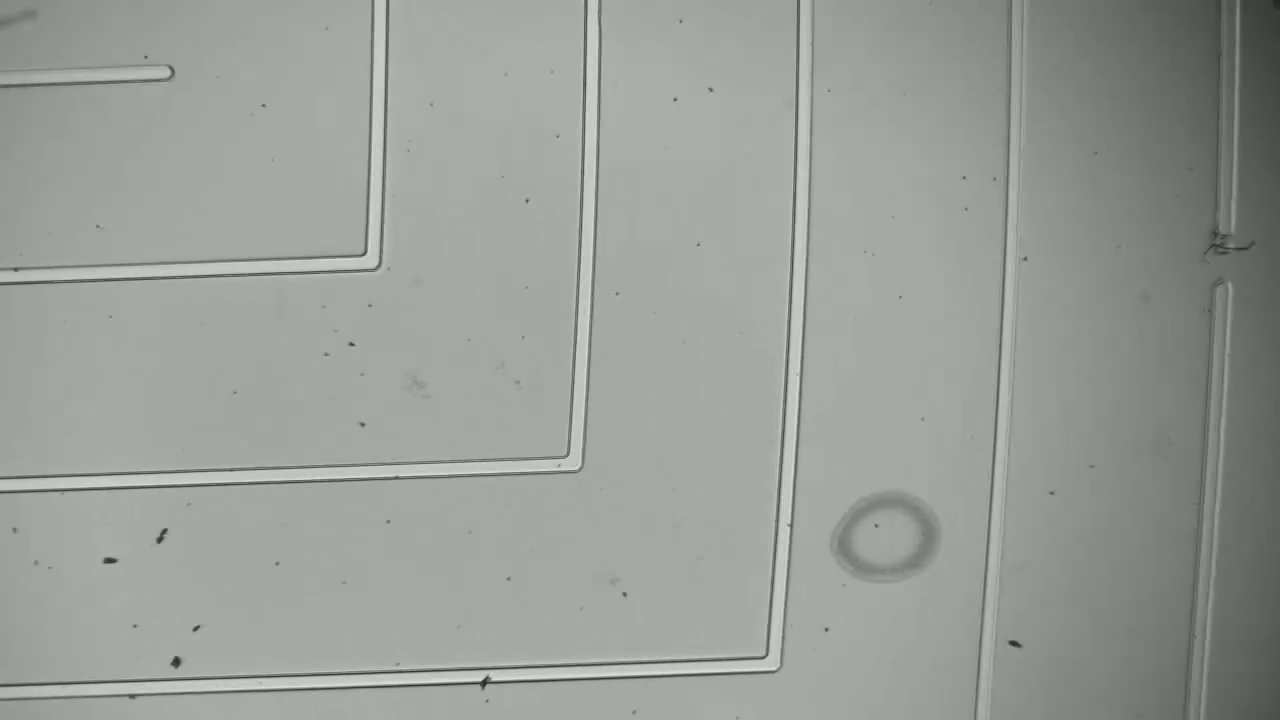open: (1193, 207, 1251, 304)
stains_enbedded: (474, 657, 500, 696)
